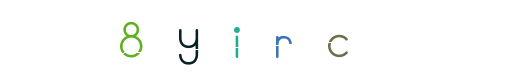8: (149, 0, 229, 80)
C: (213, 0, 293, 80)
I: (179, 0, 259, 80)
R: (207, 0, 287, 80)
Y: (157, 0, 237, 80)
